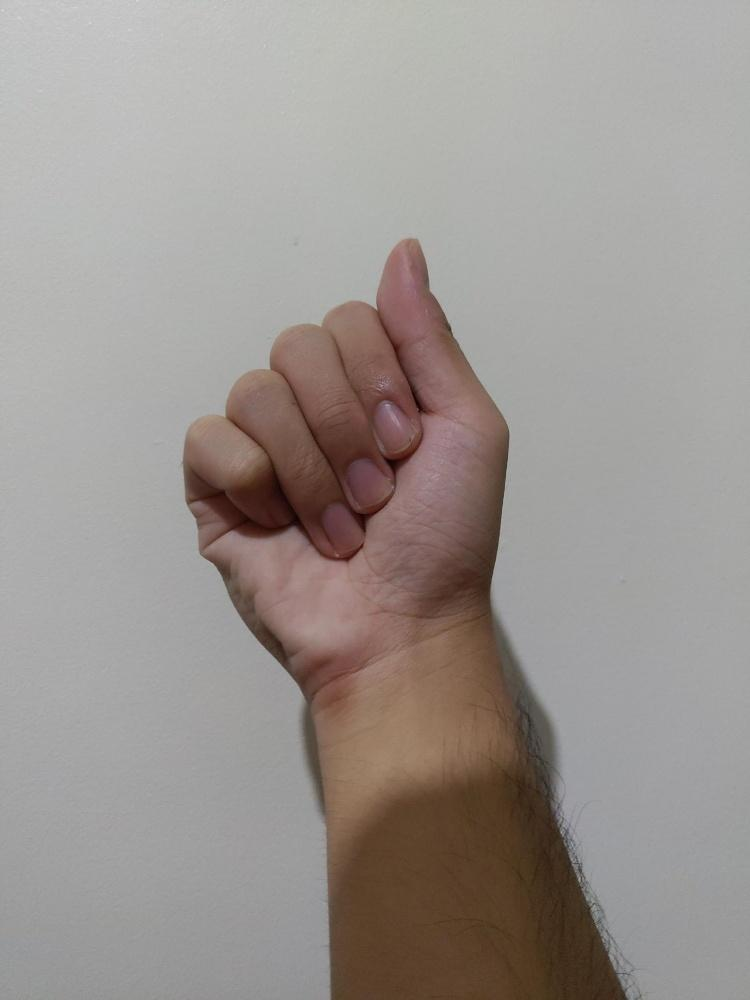a: (179, 238, 509, 696)
